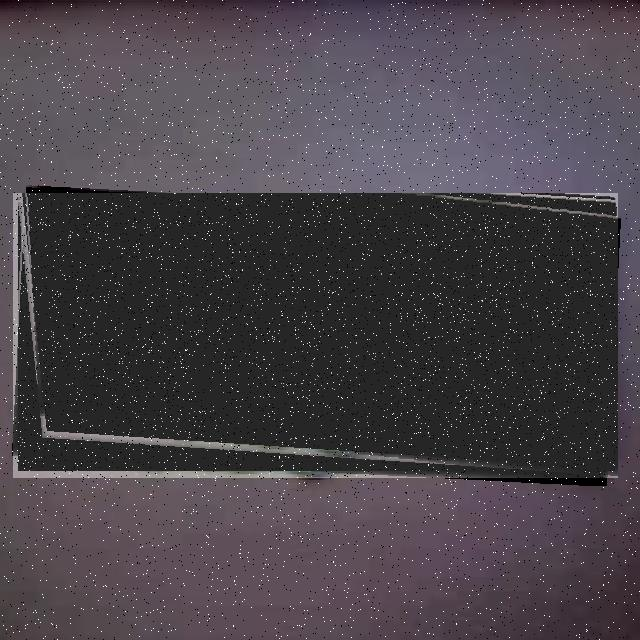lima puluh ribu rupiah: (13, 193, 618, 478)
